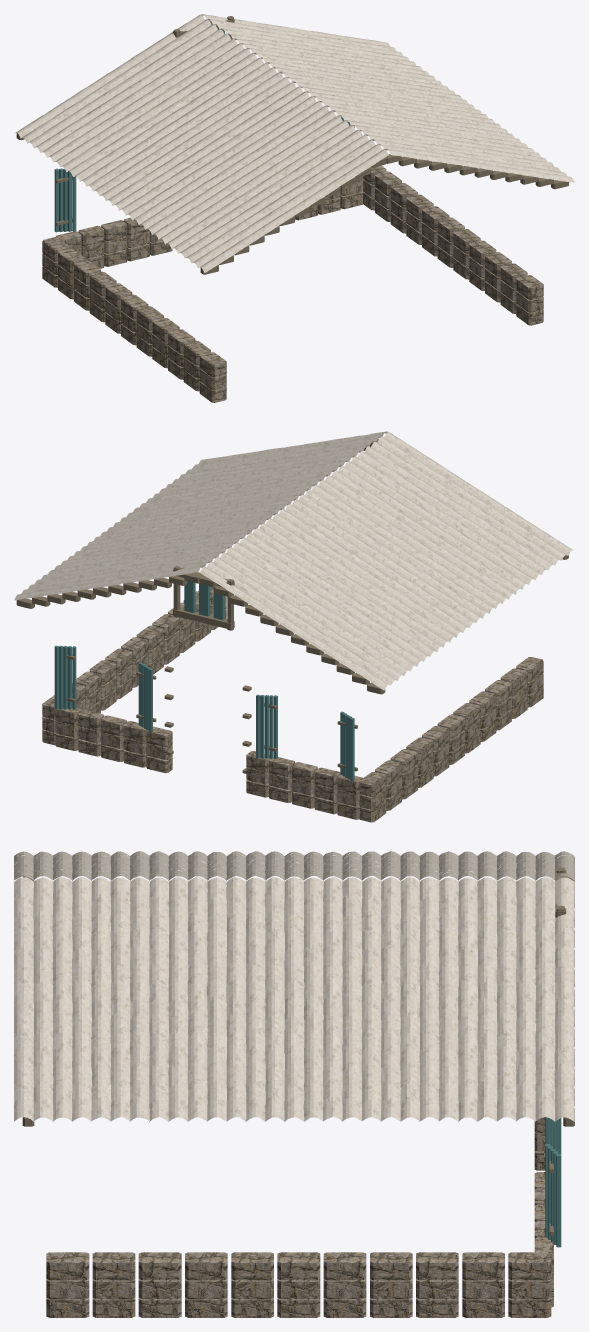
The model's file is coastal_house_details.glb.
The picture shows the model from 3 angles, top to bottom: view 1: azimuth 30°, elevation 25°; view 2: azimuth 150°, elevation 25°; view 3: azimuth 270°, elevation 25°; orthographic projection. The views are drawn at different scales.
Visible parts, largest first — view 1: Individual curved terracotta tiles, Irregular masonry footings, Roof rafters and porch joinery, Open timber shutters; view 2: Individual curved terracotta tiles, Irregular masonry footings, Open timber shutters, Roof rafters and porch joinery; view 3: Individual curved terracotta tiles, Irregular masonry footings, Open timber shutters, Roof rafters and porch joinery.
Boxes of the visible parts, bbox=[...] form: Individual curved terracotta tiles: bbox=[15, 14, 574, 272]; Irregular masonry footings: bbox=[42, 165, 543, 402]; Roof rafters and porch joinery: bbox=[16, 16, 568, 274]; Open timber shutters: bbox=[54, 29, 354, 232]; Individual curved terracotta tiles: bbox=[14, 431, 573, 690]; Irregular masonry footings: bbox=[42, 586, 543, 822]; Open timber shutters: bbox=[54, 581, 354, 781]; Roof rafters and porch joinery: bbox=[16, 438, 568, 773]; Individual curved terracotta tiles: bbox=[14, 851, 574, 1121]; Irregular masonry footings: bbox=[46, 1117, 553, 1317]; Open timber shutters: bbox=[545, 1117, 561, 1247]; Roof rafters and porch joinery: bbox=[22, 857, 574, 1235].
Size of the model in its own units: 9.12 by 5.16 by 8.14.
4 materials, 3 textured.
